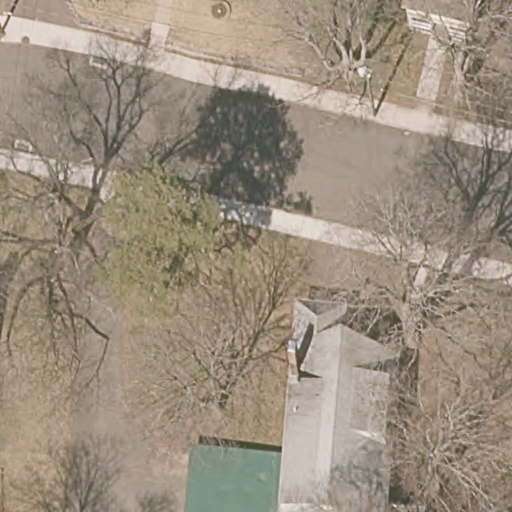DT: (354, 64, 379, 115)
